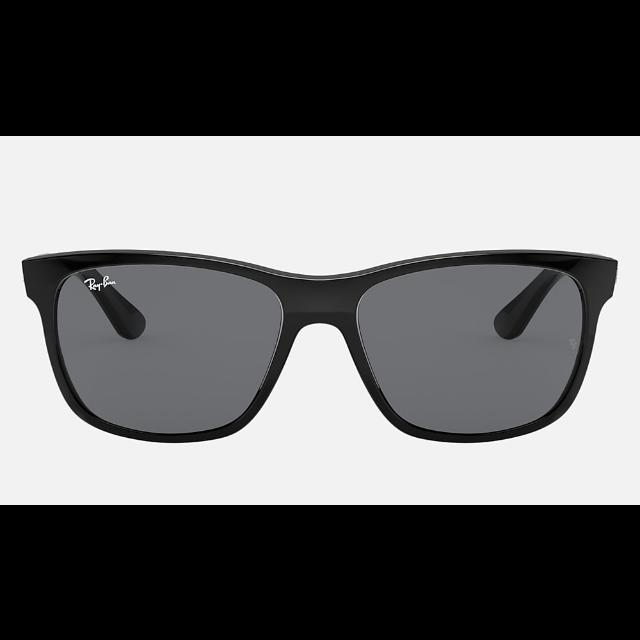Sunglasses: (21, 246, 618, 444)
